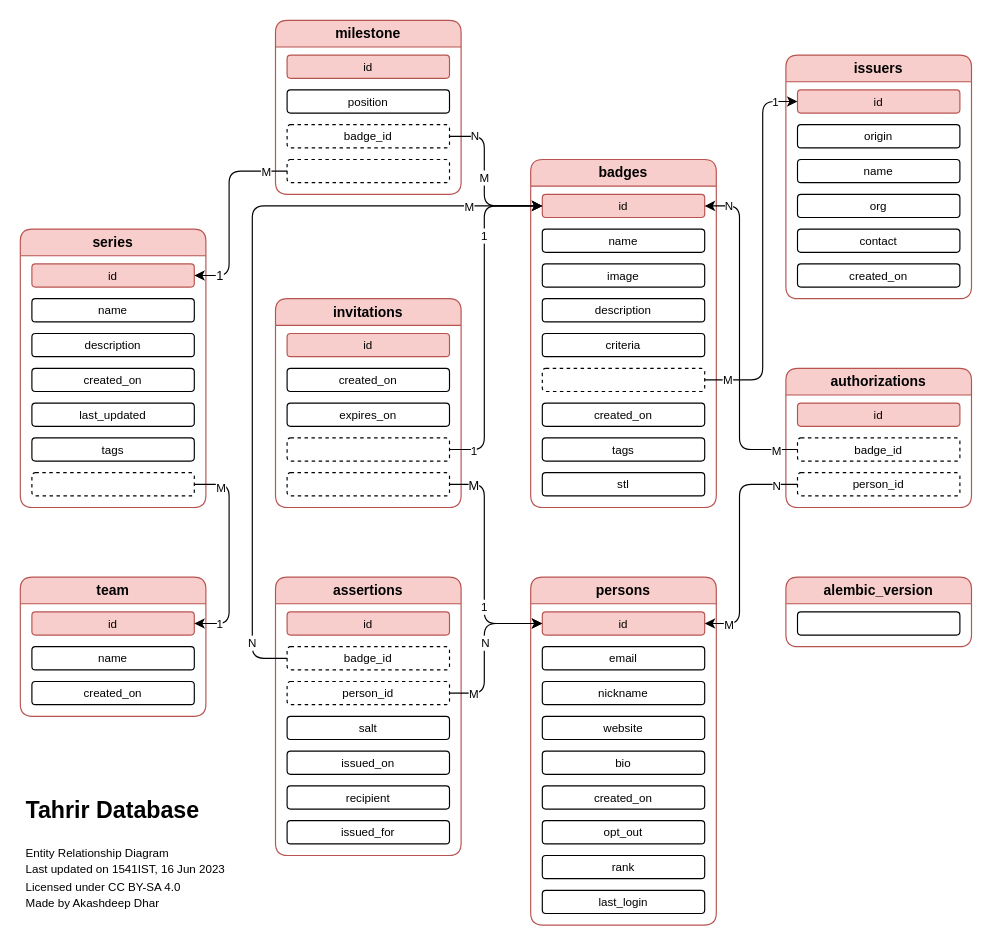
Some shapes in this 992 by 945 pixel diagram are drawn without their labels. The shapes that lost their labels are listed below. From the top down, each one's centre as x and y in pixels, then its label:
point (367, 170): series_id
point (623, 379): issuer_id
point (367, 449): badges_id
point (112, 484): team_id
point (367, 484): created_by
point (878, 623): version_num
